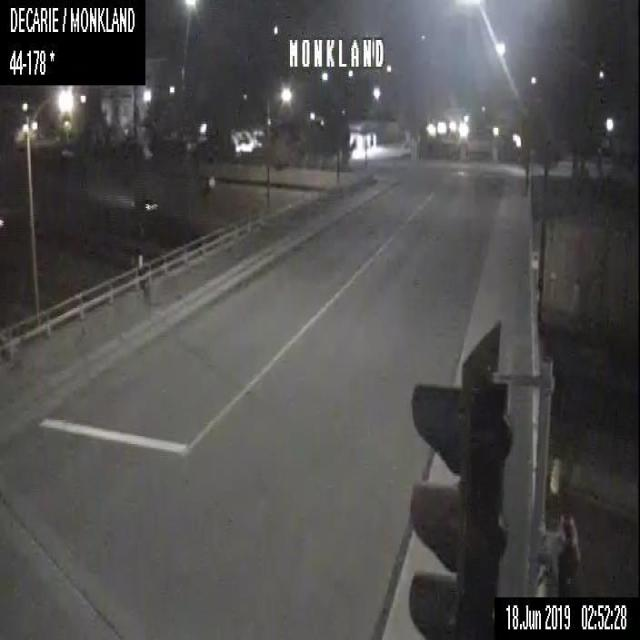vehicle: (140, 196, 161, 215)
